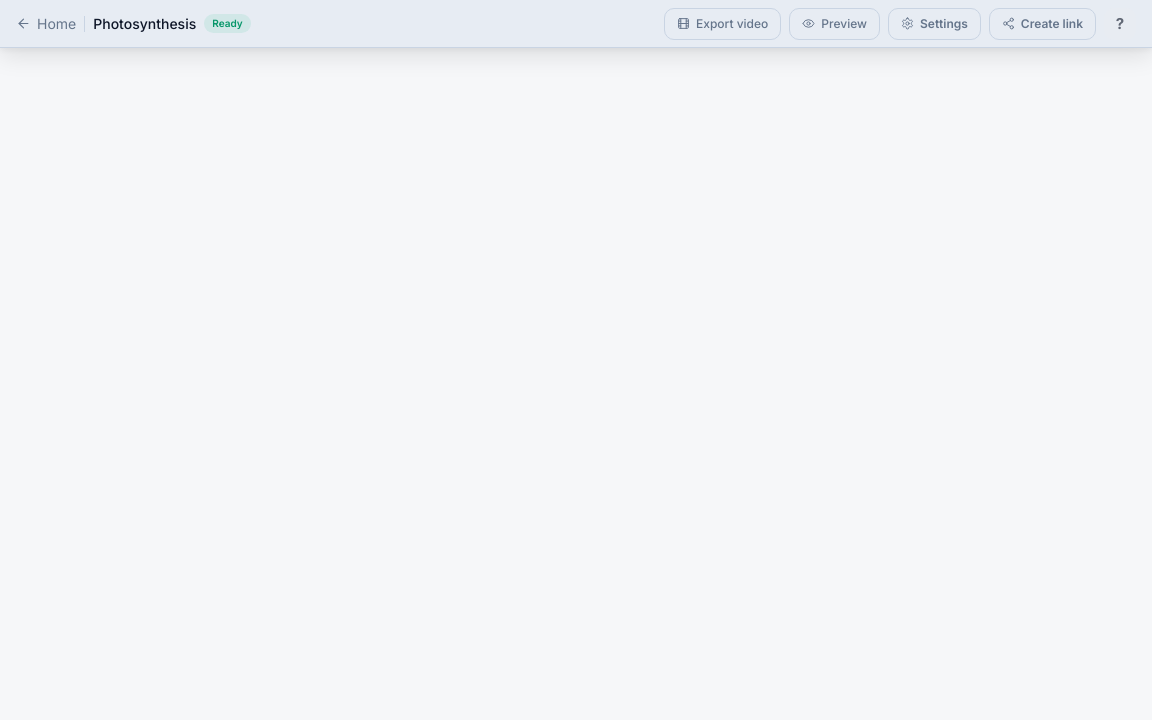
clearing a finished run › reopening the panel during a run shows the run — it does not restart it
Click the button "Export video" at (723, 24), box x1=664 y1=8 x2=781 y2=40
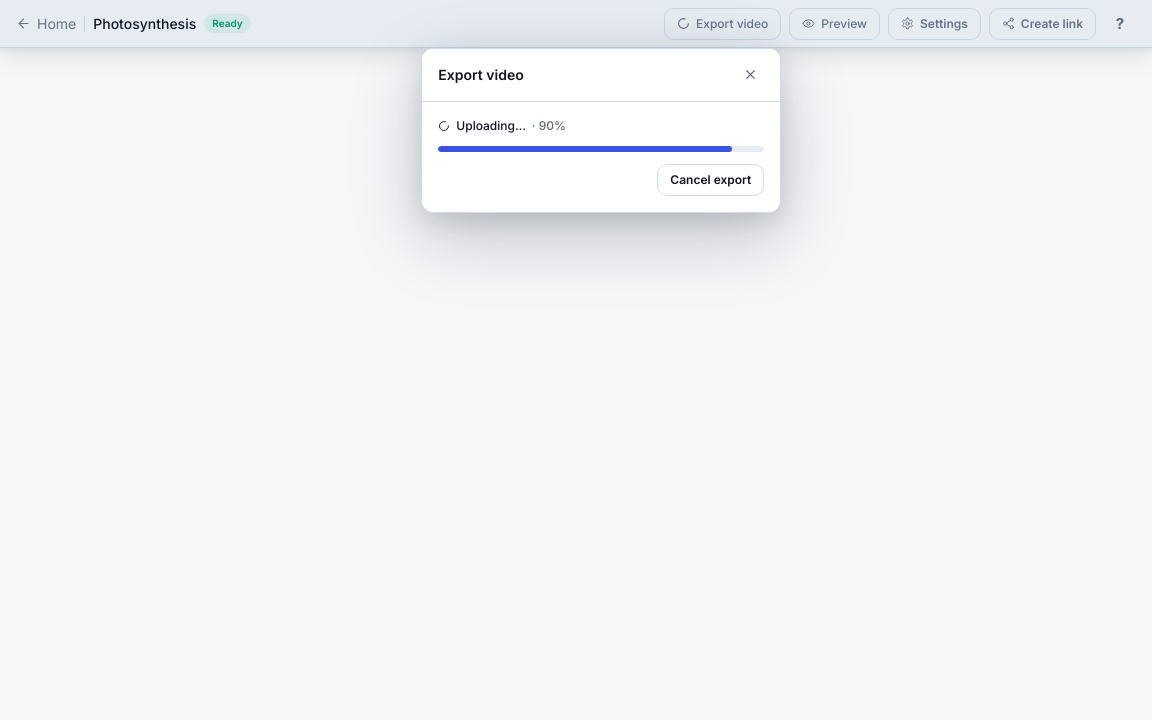
Now the text "Uploading…" is shown, box x1=456 y1=118 x2=526 y2=132
// Close the popover (the run keeps polling), then reopen it.
Click the button named "close export panel" at (750, 74), box x1=736 y1=60 x2=764 y2=88
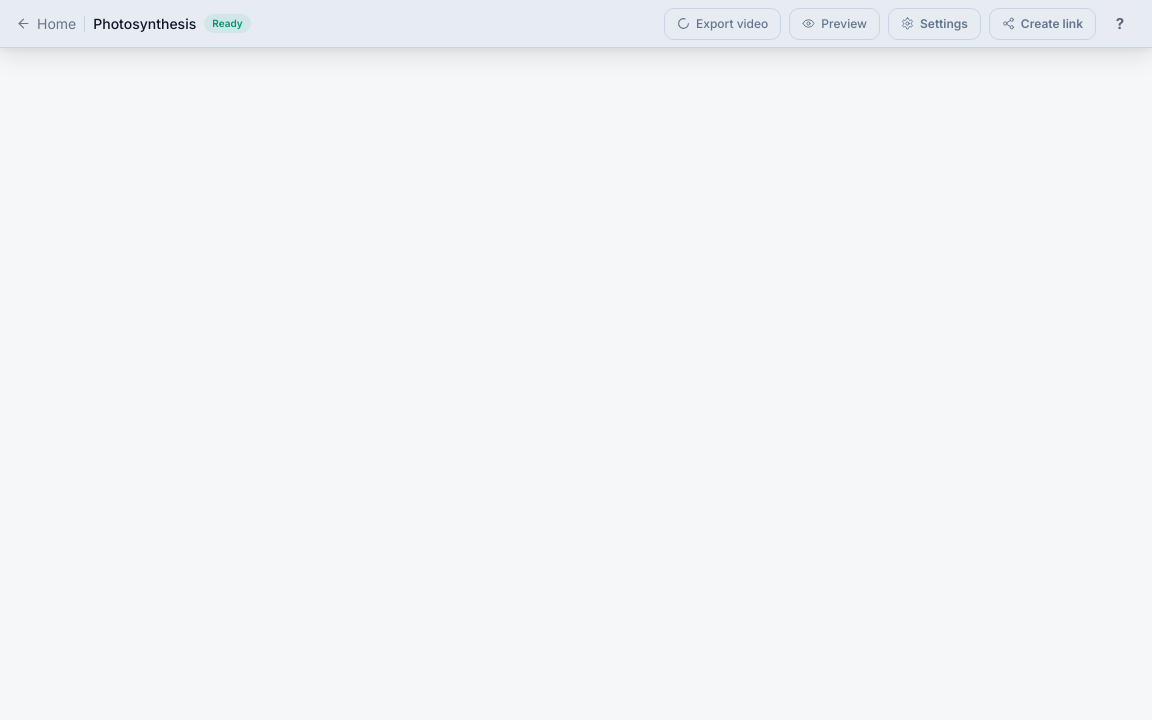
Click the button "Export video" at (723, 24), box x1=664 y1=8 x2=781 y2=40
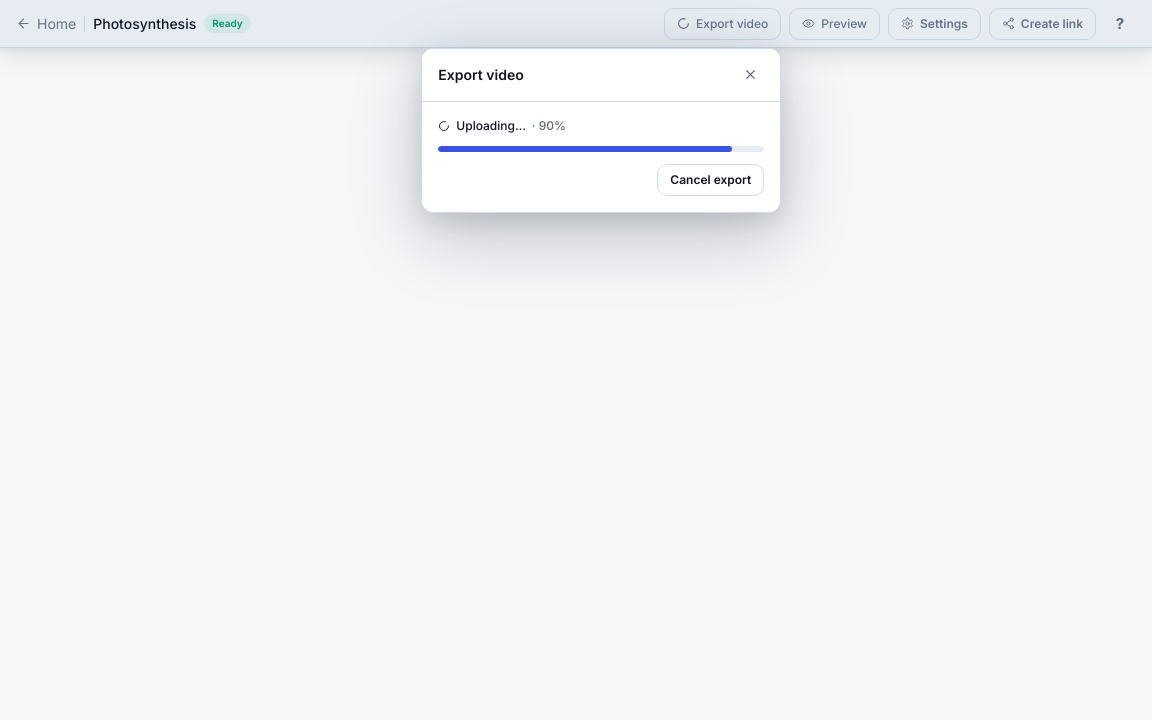
Now the text "Uploading…" is shown, box x1=456 y1=118 x2=526 y2=132
